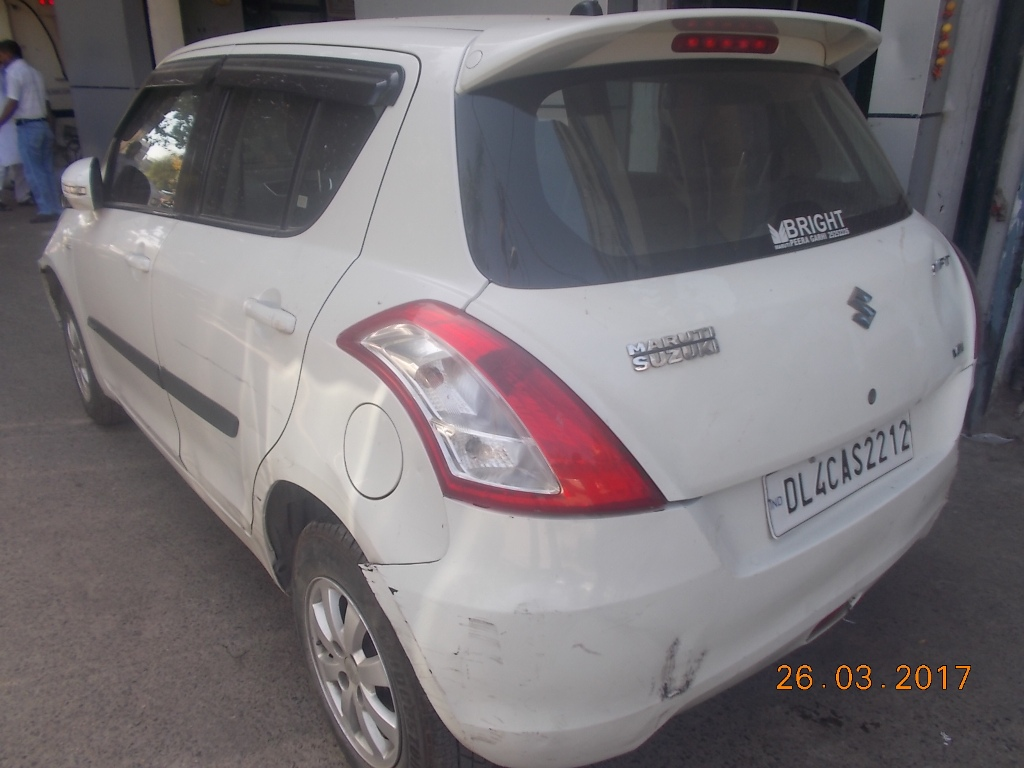Scratch_or_spot: (657, 638, 700, 712)
